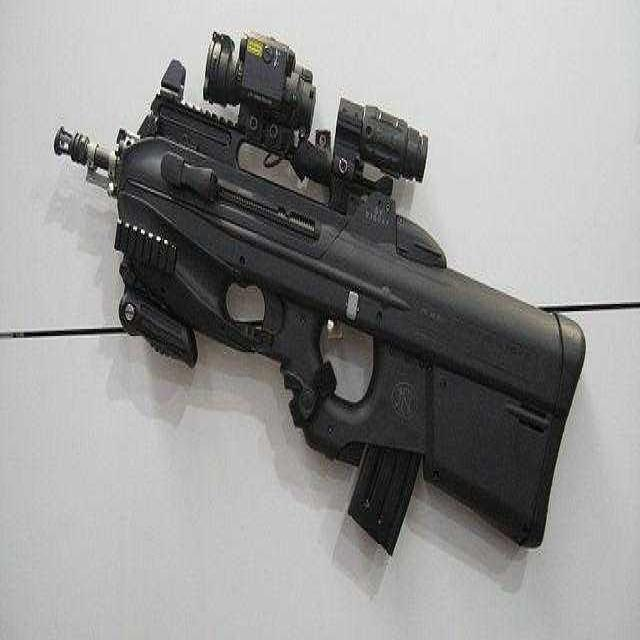heavyweapon: (44, 37, 599, 567)
